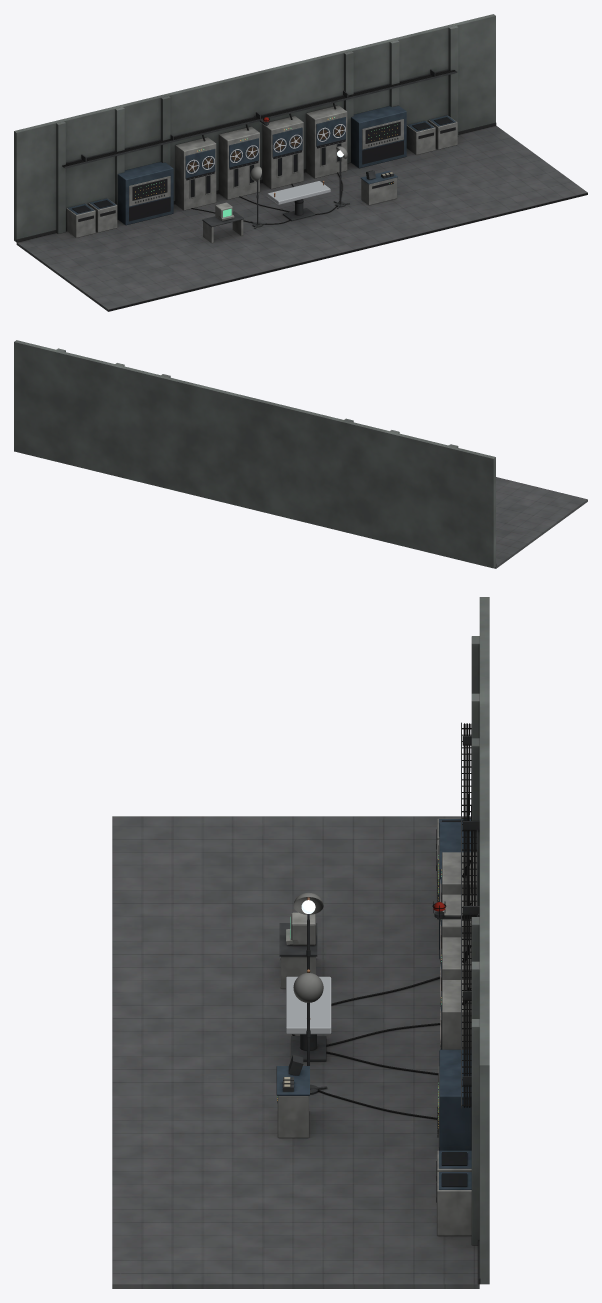
Rendered from lab.glb.
The picture shows the model from 3 angles, top to bottom: view 1: azimuth 30°, elevation 25°; view 2: azimuth 150°, elevation 25°; view 3: azimuth 270°, elevation 25°; orthographic projection. The views are drawn at different scales.
Parts seen in each view (by area): view 1: Lab_Room, Lab_Props, Slab; view 2: Lab_Room; view 3: Lab_Room, Lab_Props, Slab.
Boxes of the visible parts, left/top/right/bottom form: Lab_Room: left=14, top=14, right=587, bottom=311; Lab_Props: left=62, top=69, right=457, bottom=242; Slab: left=267, top=181, right=330, bottom=204; Lab_Room: left=14, top=340, right=587, bottom=568; Lab_Room: left=112, top=597, right=489, bottom=1288; Lab_Props: left=276, top=722, right=479, bottom=1235; Slab: left=286, top=976, right=331, bottom=1034.
Bounding box in the file's own units: 22 × 4.9 × 7.5.
11 materials, 3 textured.
